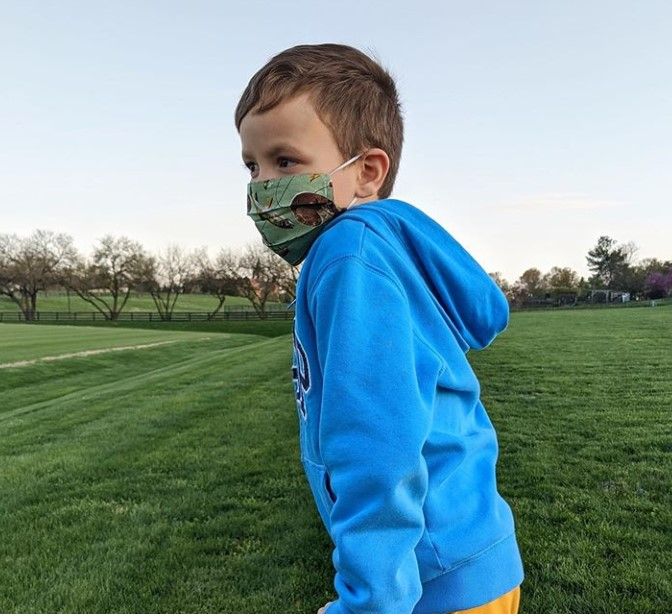face_with_mask: (226, 41, 401, 266)
